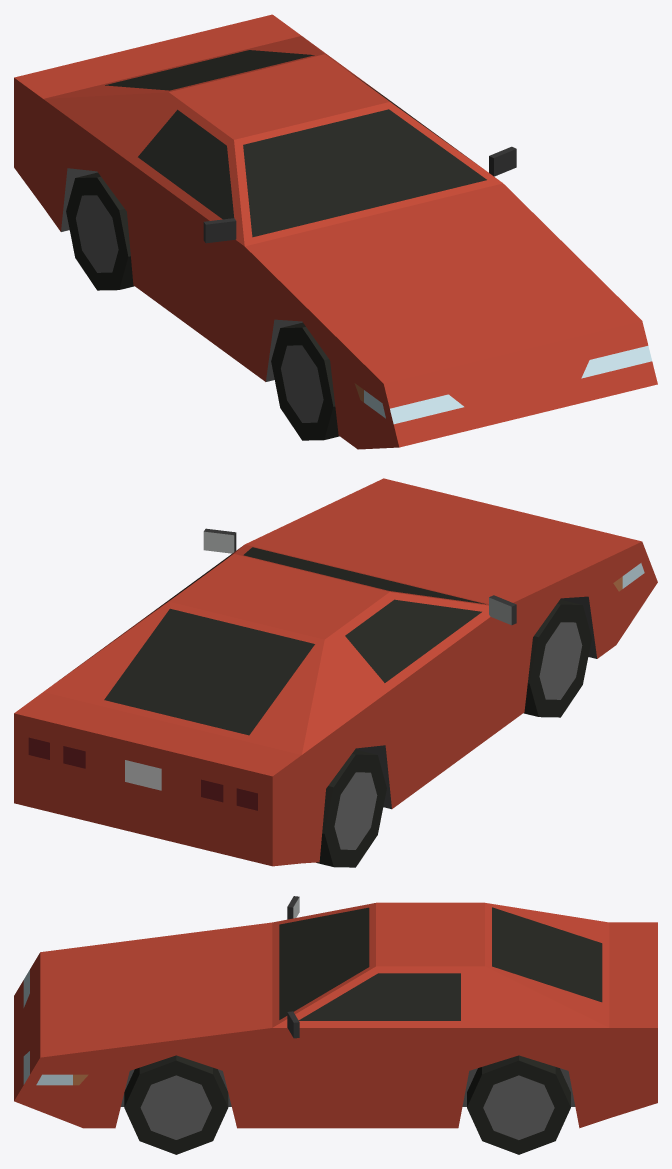
The model's file is Veh_Sports_Car_01_Red.glb.
The picture shows the model from 3 angles, top to bottom: view 1: azimuth 30°, elevation 25°; view 2: azimuth 150°, elevation 25°; view 3: azimuth 270°, elevation 25°; orthographic projection. The views are drawn at different scales.
Parts seen in each view (by area): view 1: Sports_Car_01_Red, Wheel_RR, Wheel_FR; view 2: Sports_Car_01_Red, Wheel_RR, Wheel_FR; view 3: Sports_Car_01_Red, Wheel_RL, Wheel_FL.
Part boxes in pixels (box(x1,y1,x2,y2)): Sports_Car_01_Red: box(14, 14, 657, 449); Wheel_RR: box(66, 172, 134, 290); Wheel_FR: box(271, 322, 339, 440); Sports_Car_01_Red: box(14, 478, 657, 866); Wheel_RR: box(316, 749, 386, 867); Wheel_FR: box(523, 599, 591, 717); Sports_Car_01_Red: box(14, 896, 657, 1128); Wheel_RL: box(467, 1055, 570, 1154); Wheel_FL: box(124, 1055, 228, 1154).
Bounding box in the file's own units: 1.13 × 0.6973 × 2.43.
1 material, 1 textured.
